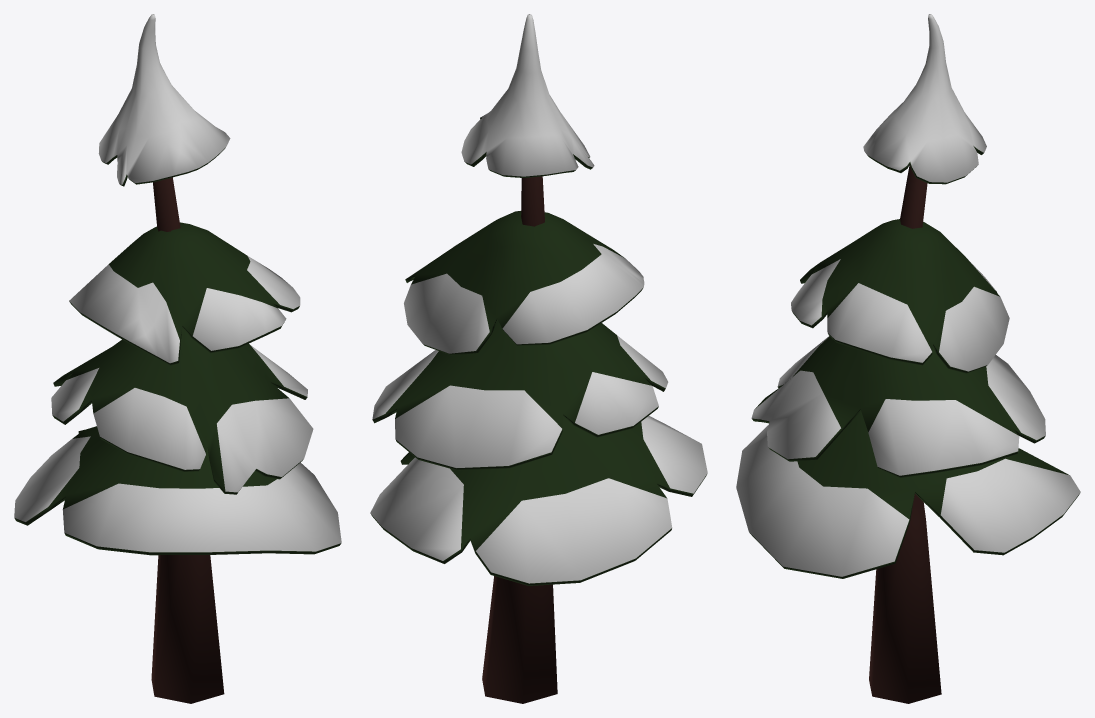
File: PineTree_Snow_2.fbx
3 renders of one model, left to right at view 1: azimuth 30°, elevation 25°; view 2: azimuth 150°, elevation 25°; view 3: azimuth 270°, elevation 25°, orthographic. The views are drawn at different scales.
Visible parts, largest first — view 1: PineTree_Snow_2; view 2: PineTree_Snow_2; view 3: PineTree_Snow_2.
Part boxes in pixels (x1,y1,x2,y2): PineTree_Snow_2: (14, 14, 341, 703); PineTree_Snow_2: (370, 14, 707, 703); PineTree_Snow_2: (736, 14, 1080, 703).
Size of the model in its own units: 657 by 715 by 1516.
